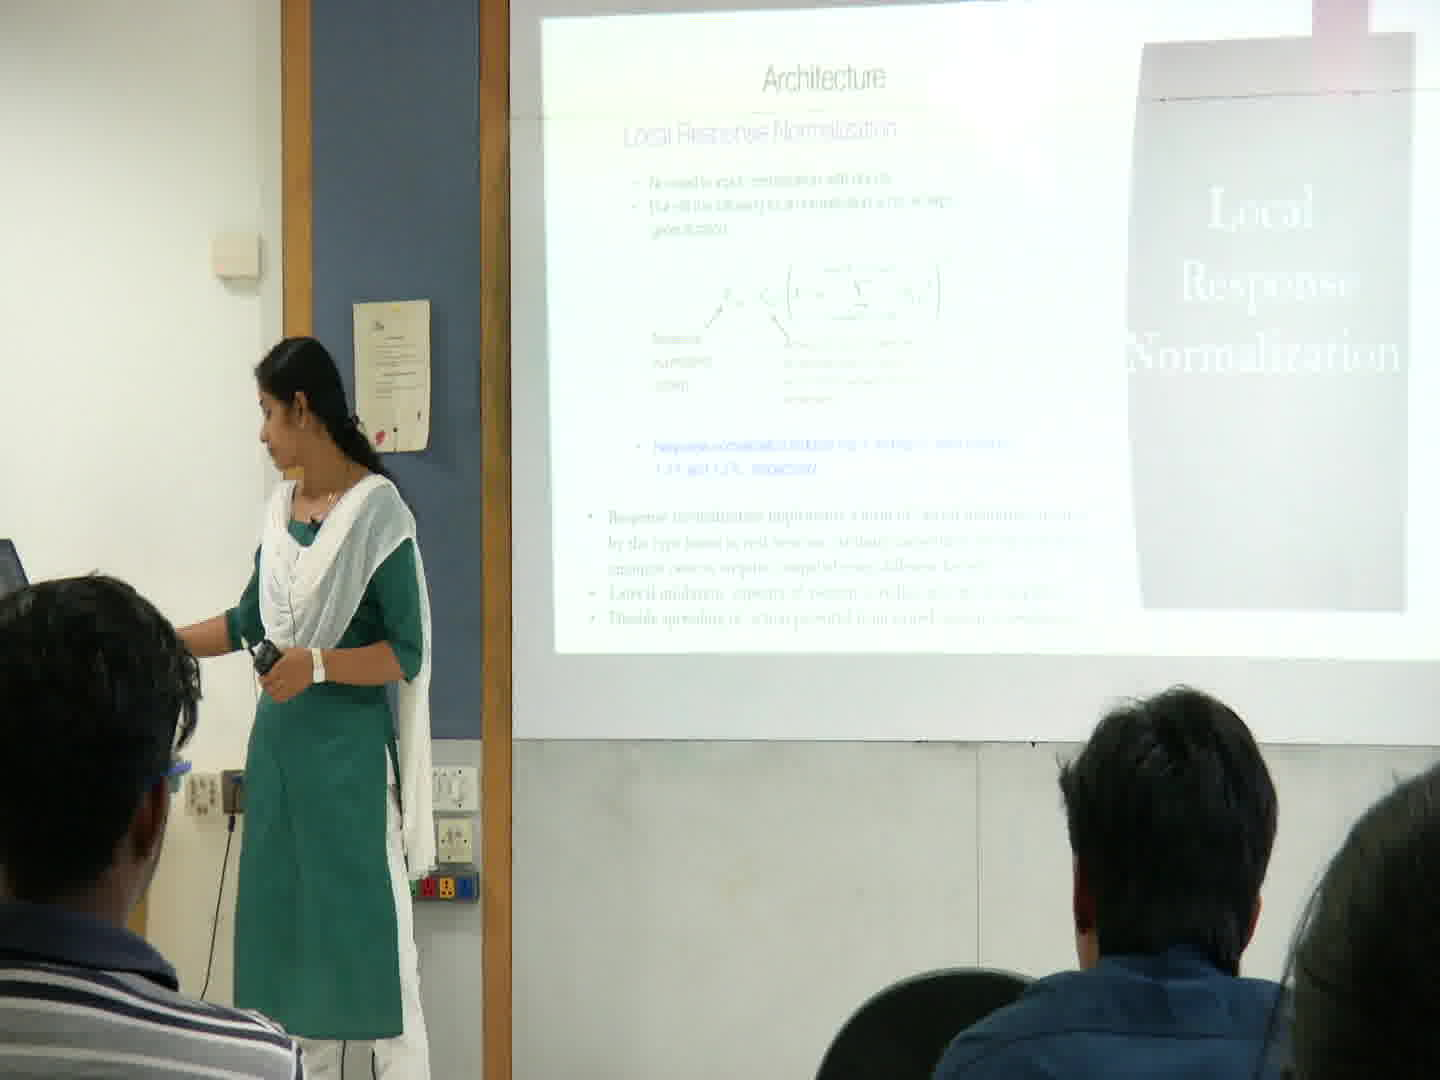eq: (643, 252, 950, 412)
